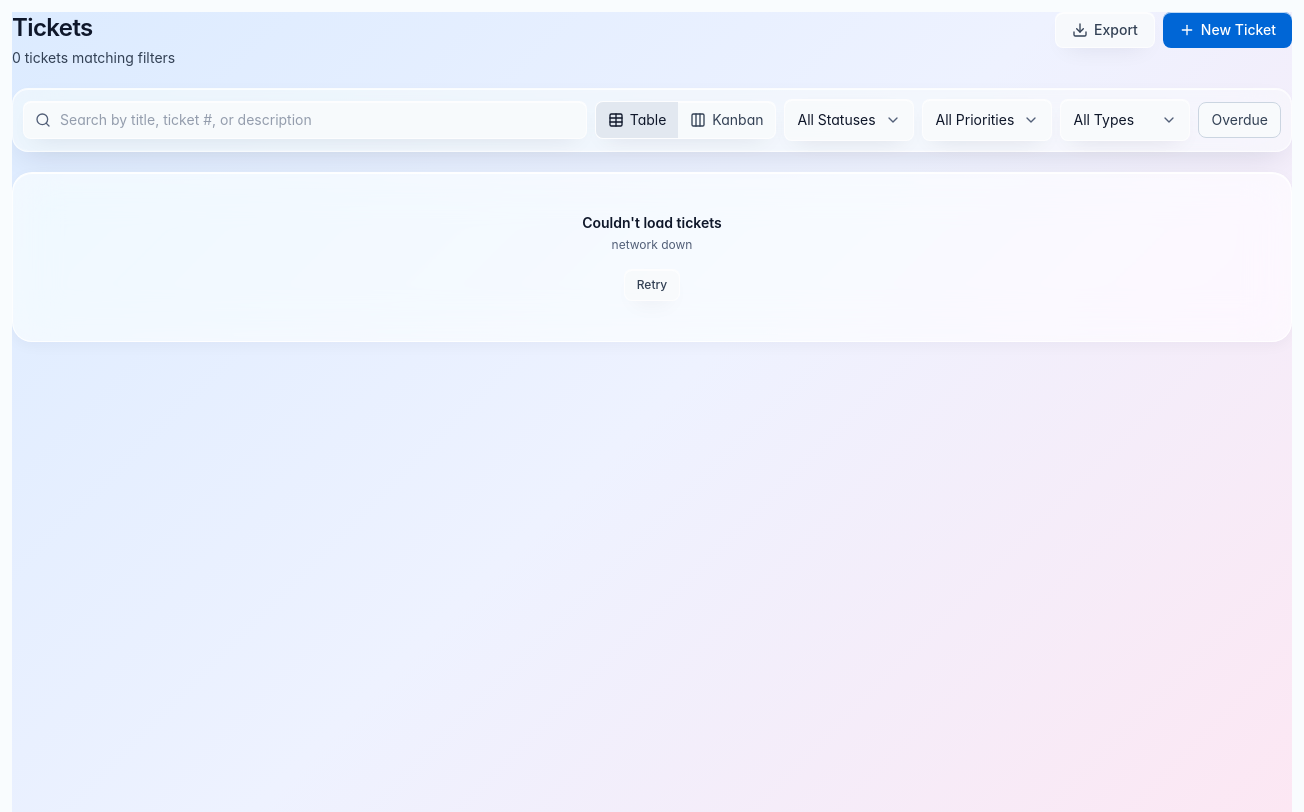
Test case: Tickets FE1 fixes (TFE-01, TFE-08, TFE-03) › TFE-01: list fetch failure renders an error panel with Retry, not "No tickets found"
Expected: the text "Couldn't load tickets" is shown, [582,214,722,231]
Expected: the text "network down" is shown, [612,237,692,252]
Click the button "Retry".
click(652, 285)  # box [624,269,680,301]
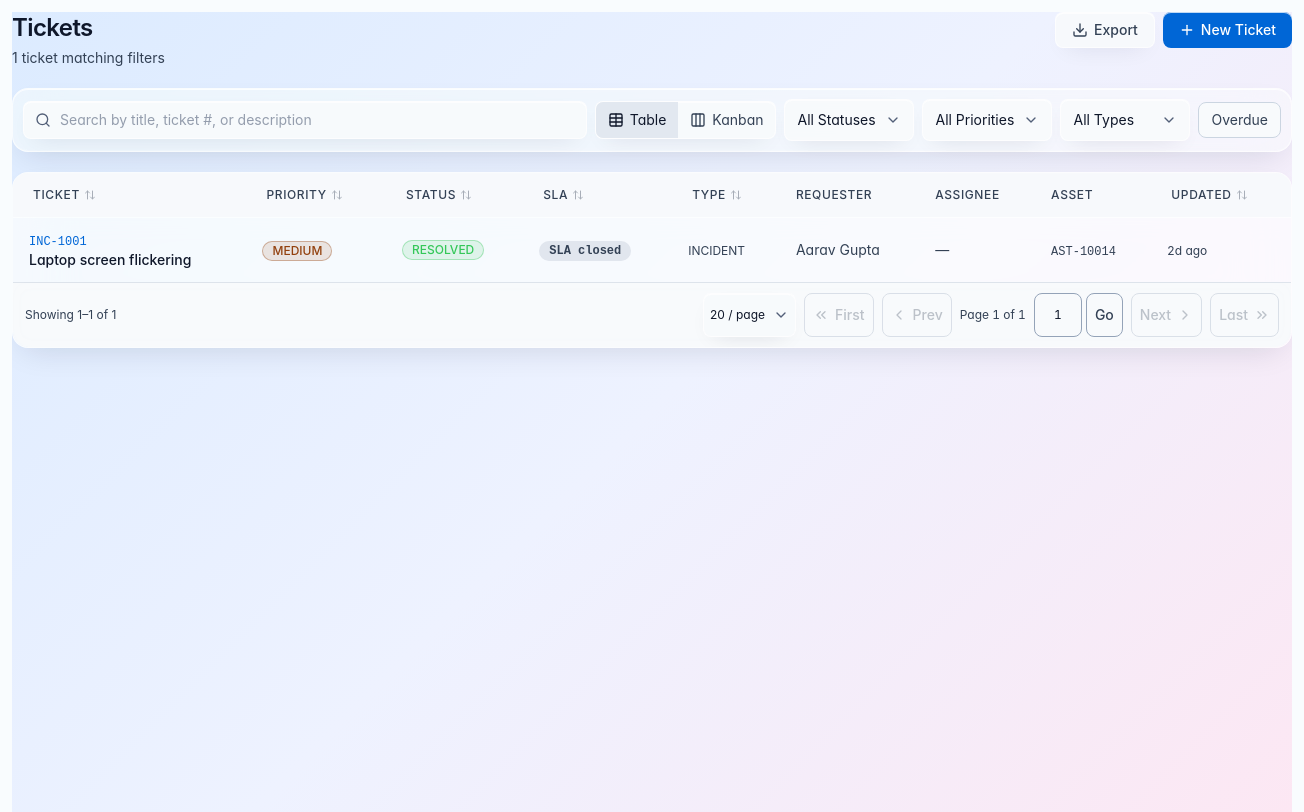
Now the text "Laptop screen flickering" is shown, box [29,251,191,268]
